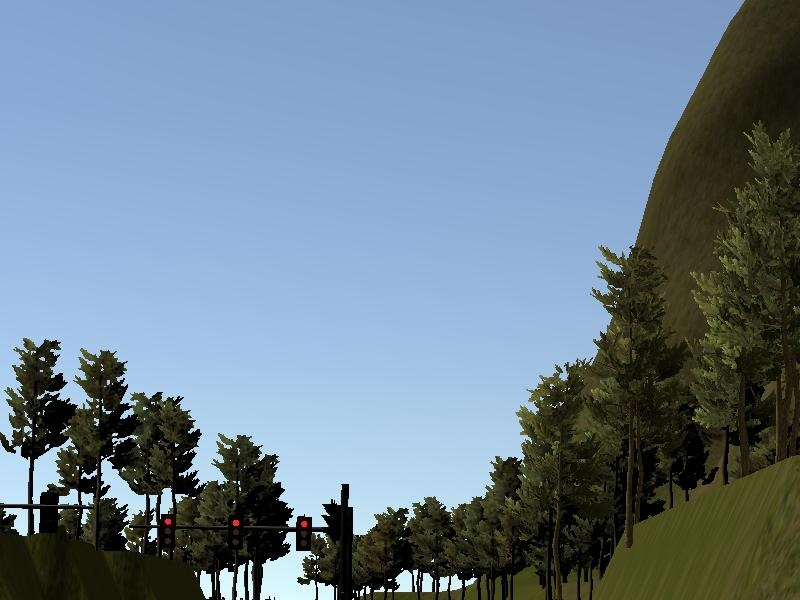RED: (161, 514, 177, 552), (228, 514, 244, 552), (296, 516, 312, 553)
